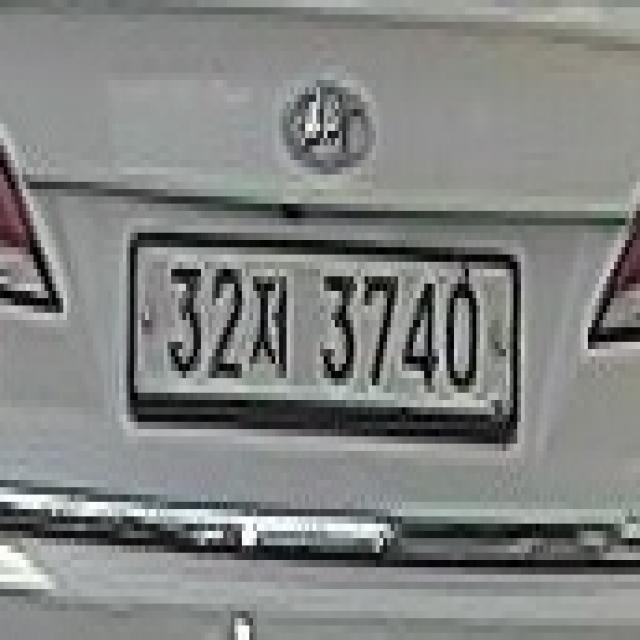0: (443, 276, 484, 393)
2: (208, 262, 242, 378)
3: (313, 269, 357, 393), (168, 262, 205, 385)
4: (402, 269, 439, 393)
7: (361, 269, 402, 386)
jeo: (246, 269, 290, 378)
license_plate: (130, 240, 517, 429)
